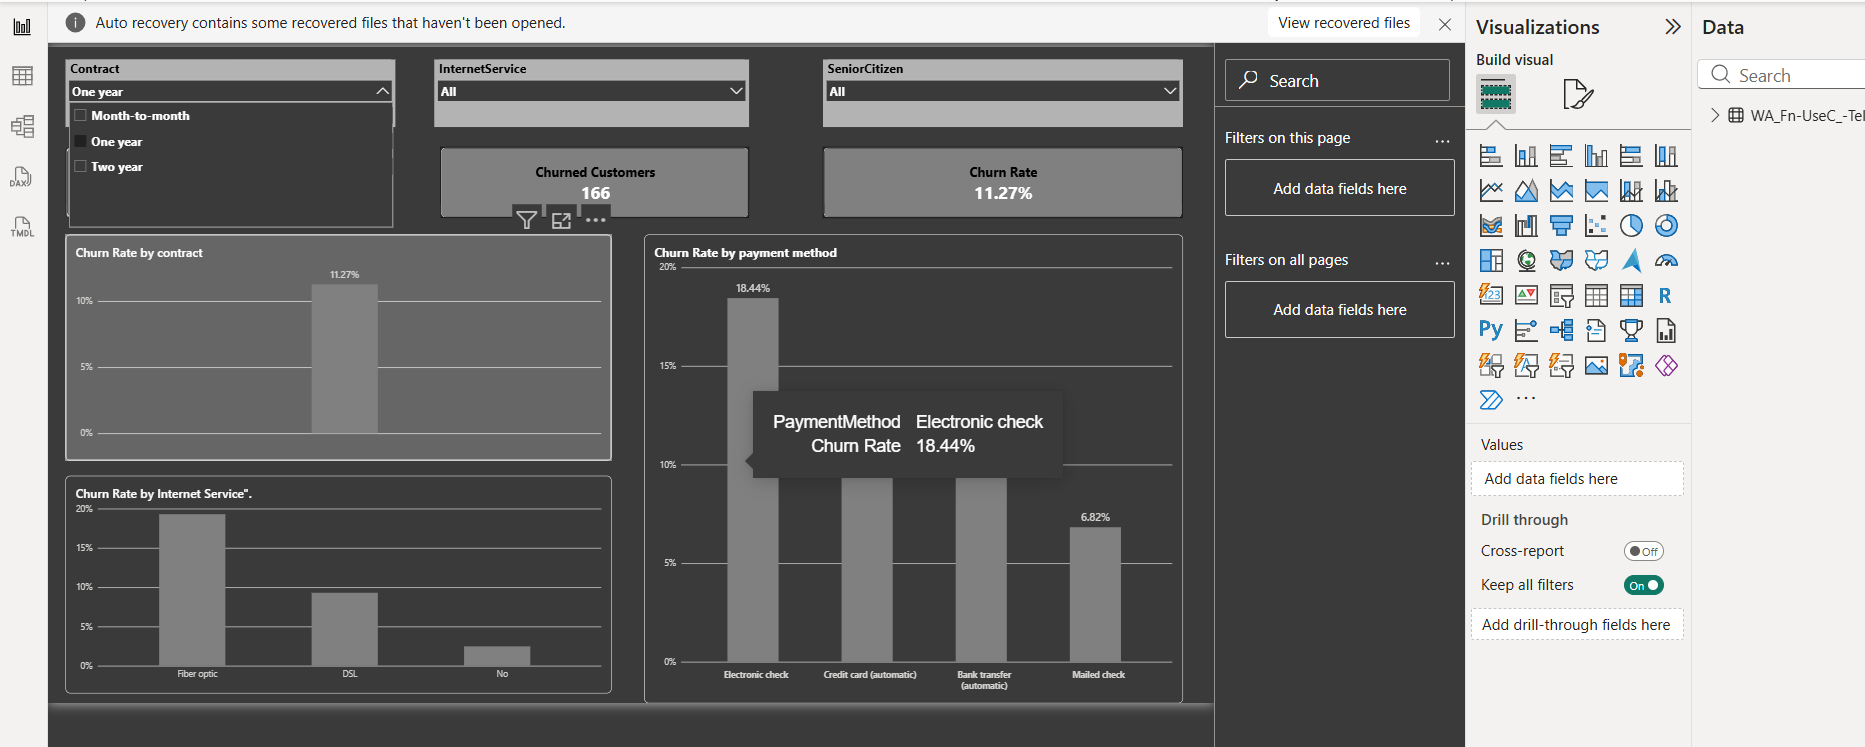

This screenshot's page, from the dashboard's own definition file:
{"tool":"powerbi","page":{"name":"Page 1","canvas":[1920,1080],"ordinal":0},"visuals":[{"type":"cardVisual","fields":{"Data":["WA_Fn-UseC_-Telco-Customer-Churn.Total Customers"]},"box":[28.8,164.7,529,117.3],"z":0},{"type":"cardVisual","fields":{"Data":["WA_Fn-UseC_-Telco-Customer-Churn.Churned Customers"]},"box":[646.3,164.7,508.4,117.3],"z":1000},{"type":"cardVisual","fields":{"Data":["WA_Fn-UseC_-Telco-Customer-Churn.Churn Rate"]},"box":[1276.2,164.7,592.8,117.3],"z":2000},{"type":"clusteredColumnChart","title":"Churn Rate by contract","fields":{"Category":["WA_Fn-UseC_-Telco-Customer-Churn.Contract"],"Y":["WA_Fn-UseC_-Telco-Customer-Churn.Churn Rate"]},"box":[28.8,308.7,796.6,397.3],"z":3000},{"type":"clusteredColumnChart","title":"Churn Rate by Internet Service\".","fields":{"Category":["WA_Fn-UseC_-Telco-Customer-Churn.InternetService"],"Y":["WA_Fn-UseC_-Telco-Customer-Churn.Churn Rate"]},"box":[28.8,734.8,796.6,329.3],"z":4000},{"type":"clusteredColumnChart","title":"Churn Rate by payment method","fields":{"Category":["WA_Fn-UseC_-Telco-Customer-Churn.PaymentMethod"],"Y":["WA_Fn-UseC_-Telco-Customer-Churn.Churn Rate"]},"box":[878.9,333.4,940.7,693.7],"z":5000},{"type":"slicer","fields":{"Values":["WA_Fn-UseC_-Telco-Customer-Churn.InternetService"]},"box":[636,20.6,518.7,111.1],"z":6000},{"type":"slicer","fields":{"Values":["WA_Fn-UseC_-Telco-Customer-Churn.Contract"]},"box":[28.8,20.6,543.4,111.1],"z":6001},{"type":"slicer","fields":{"Values":["WA_Fn-UseC_-Telco-Customer-Churn.SeniorCitizen"]},"box":[1276.2,20.6,592.8,111.1],"z":6002}]}

Visuals, with their boxes in screenshot pixels (x1, y1, x2, y2):
cardVisual - WA_Fn-UseC_-Telco-Customer-Churn.Total Customers: (x1=45, y1=63, x2=419, y2=146)
cardVisual - WA_Fn-UseC_-Telco-Customer-Churn.Churned Customers: (x1=482, y1=63, x2=842, y2=146)
cardVisual - WA_Fn-UseC_-Telco-Customer-Churn.Churn Rate: (x1=928, y1=63, x2=1348, y2=146)
"Churn Rate by contract" clusteredColumnChart: (x1=45, y1=165, x2=609, y2=446)
"Churn Rate by Internet Service"." clusteredColumnChart: (x1=45, y1=467, x2=609, y2=700)
"Churn Rate by payment method" clusteredColumnChart: (x1=647, y1=183, x2=1313, y2=674)
slicer - WA_Fn-UseC_-Telco-Customer-Churn.InternetService: (x1=475, y1=0, x2=842, y2=40)
slicer - WA_Fn-UseC_-Telco-Customer-Churn.Contract: (x1=45, y1=0, x2=429, y2=40)
slicer - WA_Fn-UseC_-Telco-Customer-Churn.SeniorCitizen: (x1=928, y1=0, x2=1348, y2=40)
